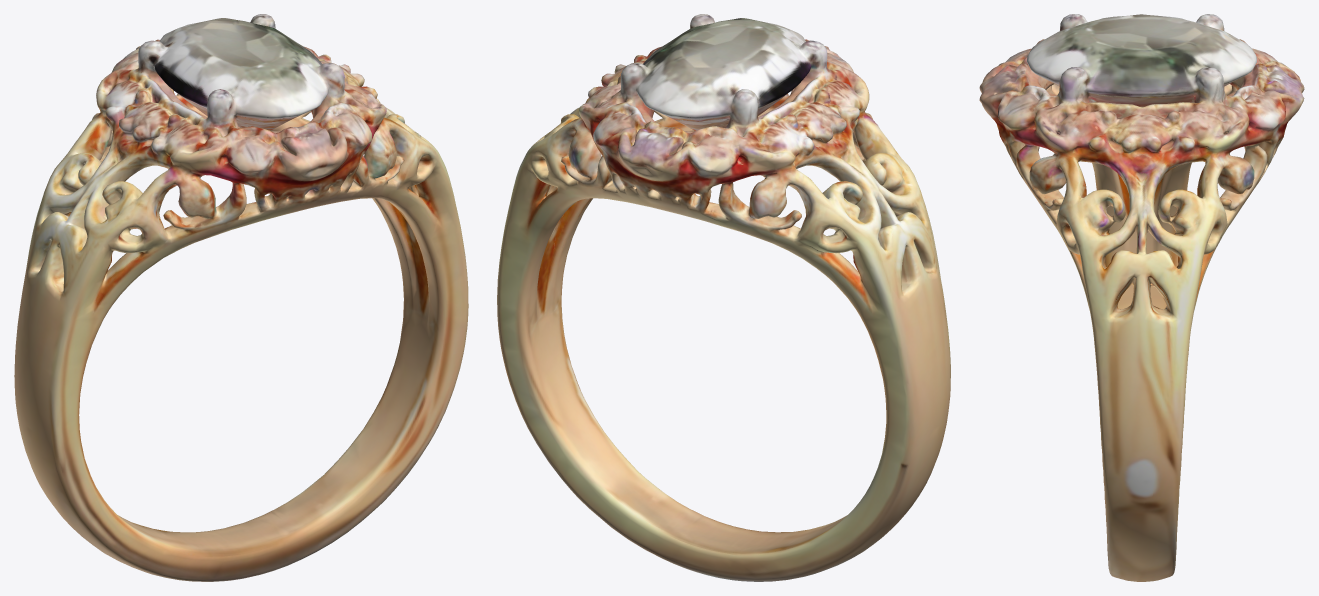
The model's file is Zennah-gem-ring.gltf.
3 views of the same model, side by side, from view 1: azimuth 30°, elevation 25°; view 2: azimuth 150°, elevation 25°; view 3: azimuth 270°, elevation 25° (orthographic).
Visible parts, largest first — view 1: Node #0; view 2: Node #0; view 3: Node #0.
Part boxes in pixels (x1,y1,x2,y2): Node #0: (14, 14, 468, 581); Node #0: (497, 14, 950, 581); Node #0: (979, 14, 1304, 581).
Bounding box in the file's own units: 1.71 × 2 × 1.12.
Materials: 1 (1 with a texture image).
